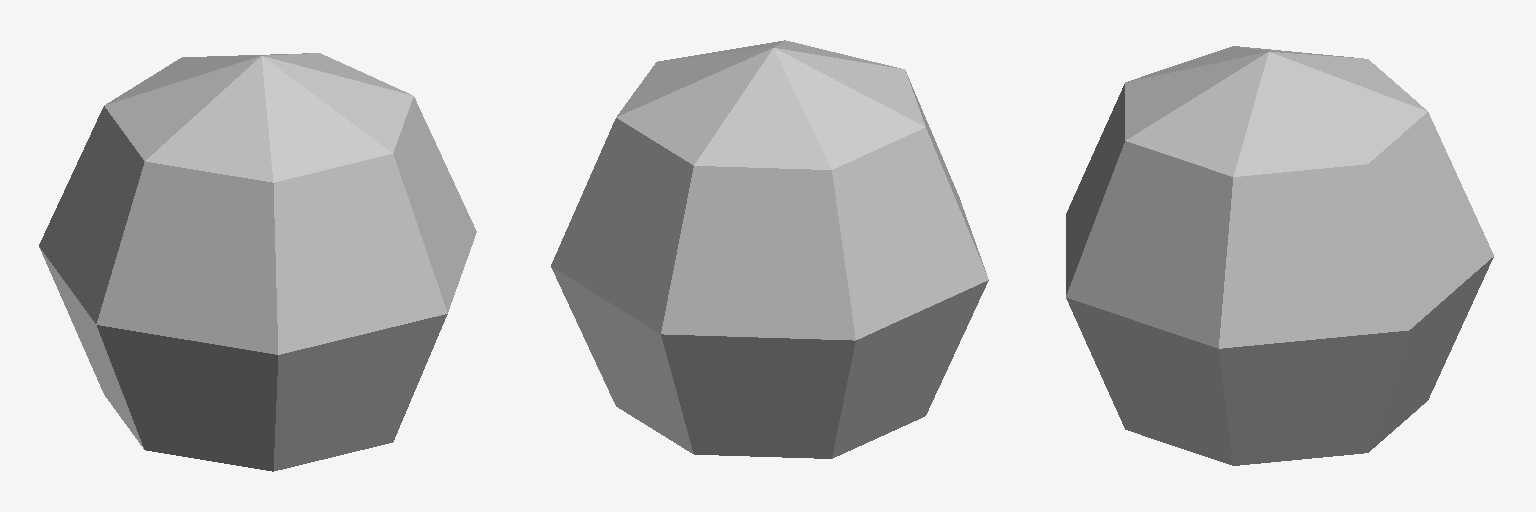
File: bullet.obj
3 renders of one model, left to right at view 1: azimuth 30°, elevation 25°; view 2: azimuth 150°, elevation 25°; view 3: azimuth 270°, elevation 25°, orthographic.
Visible parts, largest first — view 1: Sphere; view 2: Sphere; view 3: Sphere.
Boxes of the visible parts, box(x1,y1,x2,y2) form: Sphere: box(39, 53, 476, 471); Sphere: box(551, 40, 988, 458); Sphere: box(1066, 46, 1493, 465).
Bounding box in the file's own units: 0.2885 × 0.2959 × 0.2813.